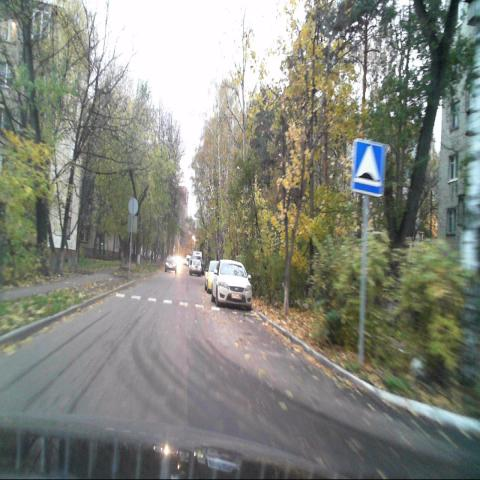5_20: (353, 139, 384, 196)
